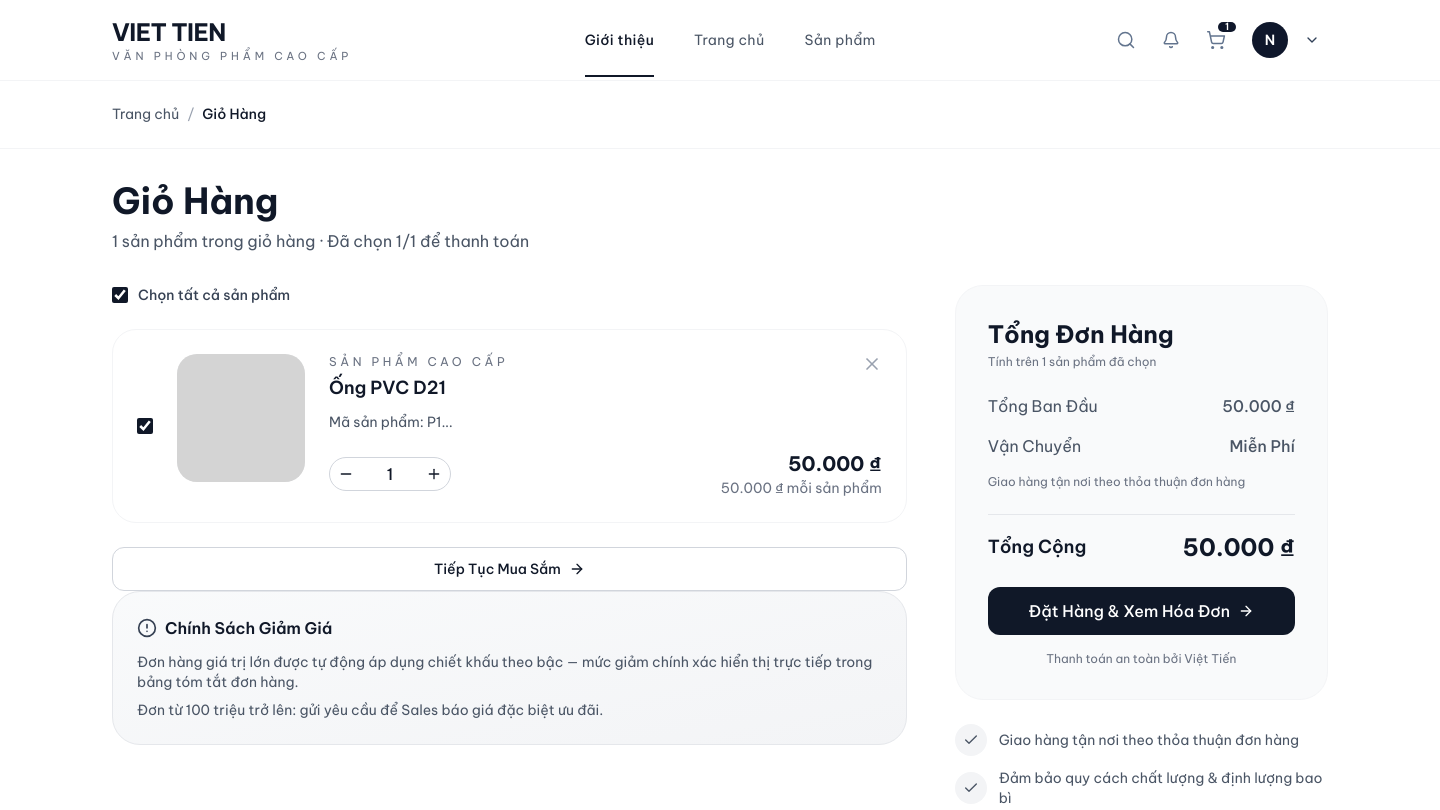
Test case: L1-FCMP · trang Giỏ hàng › bỏ chọn hết sản phẩm thì khoá nút đặt hàng
Click the checkbox named "Chọn Ống PVC D21 để thanh toán": x=145, y=426 left=137, top=418, right=153, bottom=434
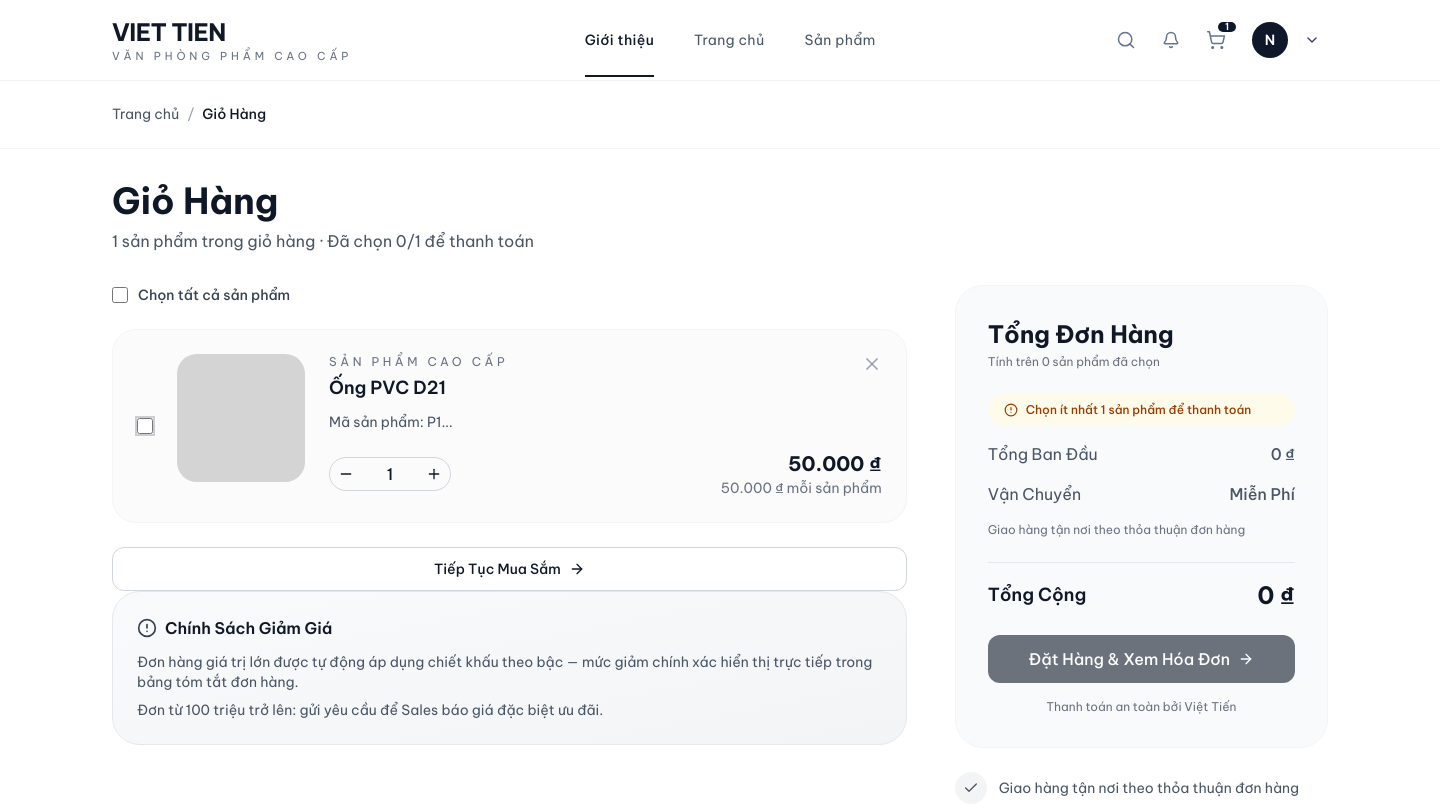
Expected: the button "Đặt Hàng & Xem Hóa Đơn" is disabled, left=988, top=635, right=1295, bottom=683
